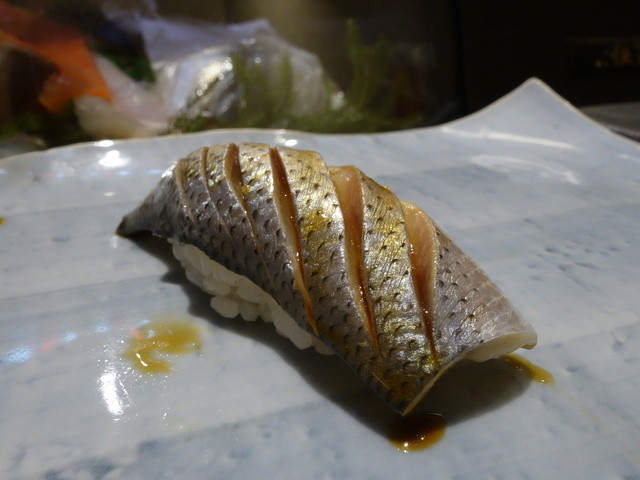spotted-shad: (112, 141, 540, 420)
